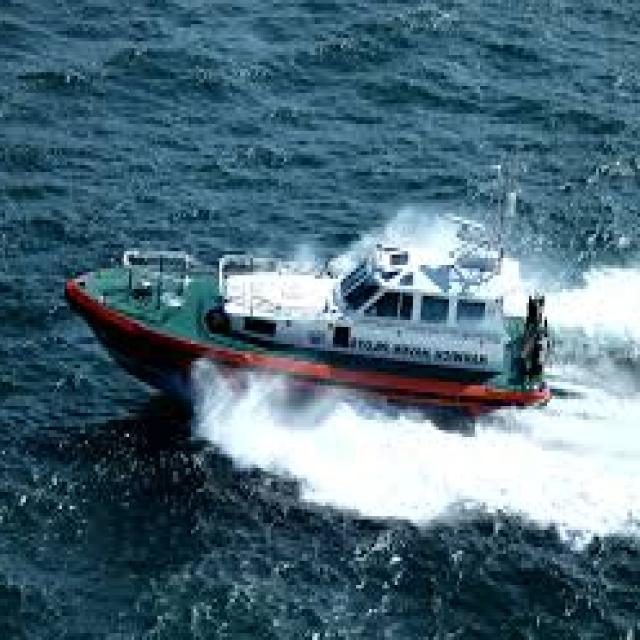houseboat: (69, 181, 565, 406)
